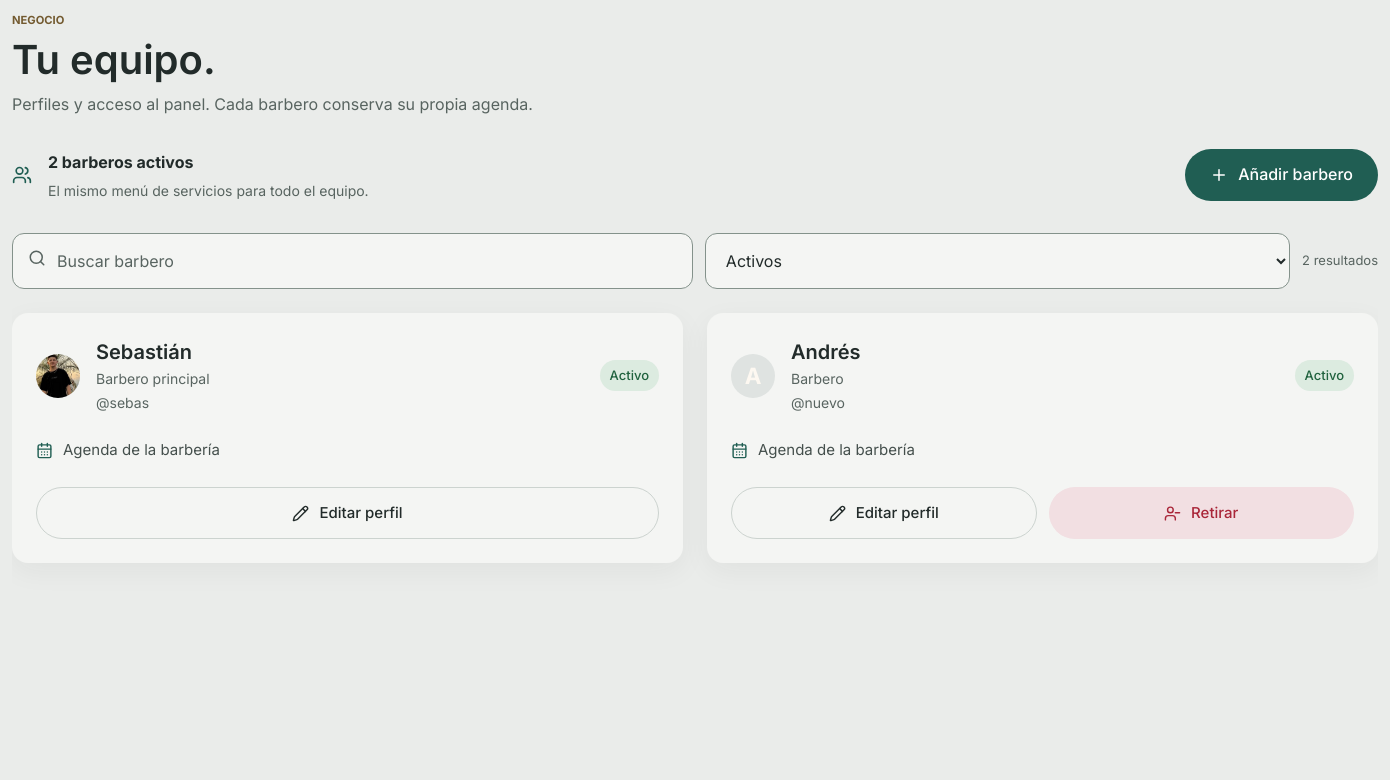
it: Gestión del equipo › protege al propietario y permite buscar perfiles
Expected: the number of buttons "Retirar" is 1, top-left (1048, 487), bottom-right (1354, 539)
Type "Andrés" into the search field labelled "Buscar barbero" at (352, 261), box top-left (12, 233), bottom-right (693, 289)
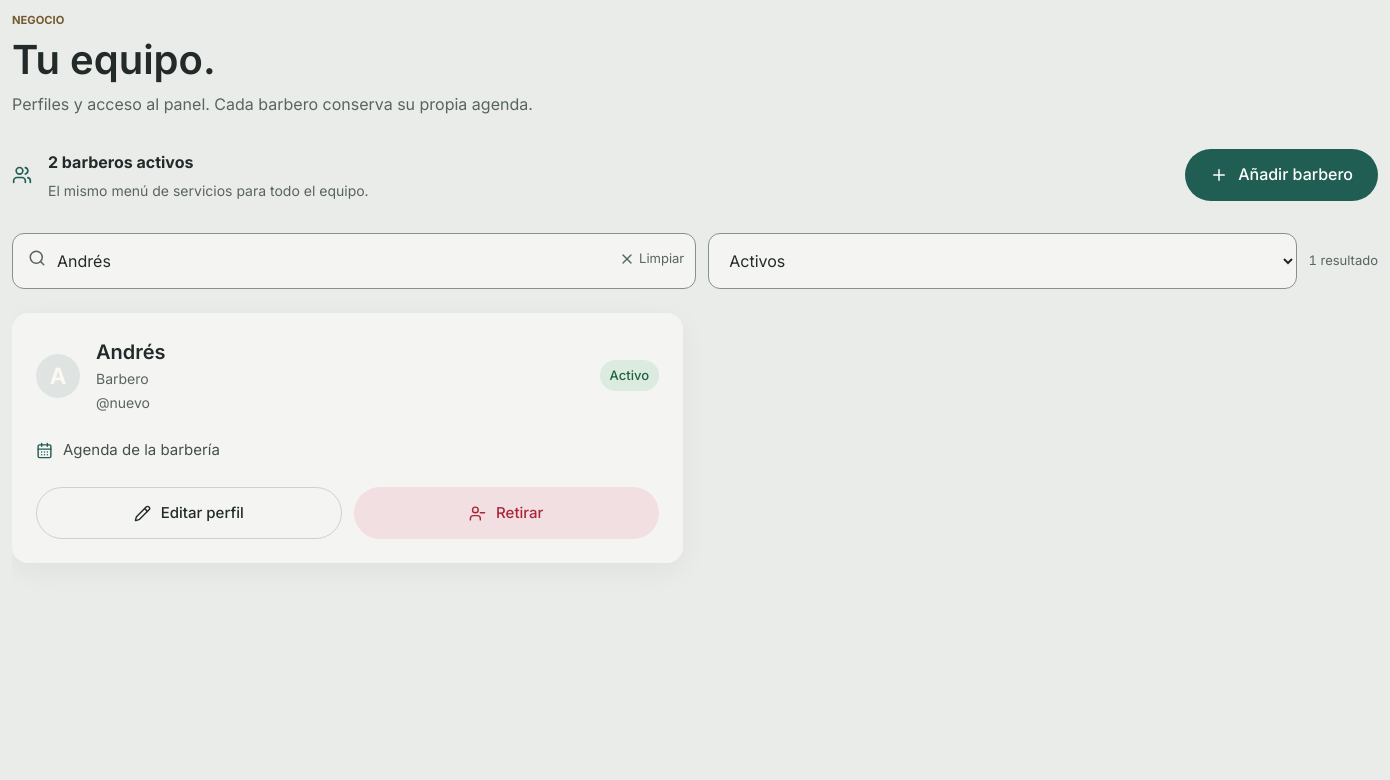
Expected: the heading "Andrés" is shown, top-left (96, 340), bottom-right (166, 364)
Result: the heading "Sebastián" is gone
